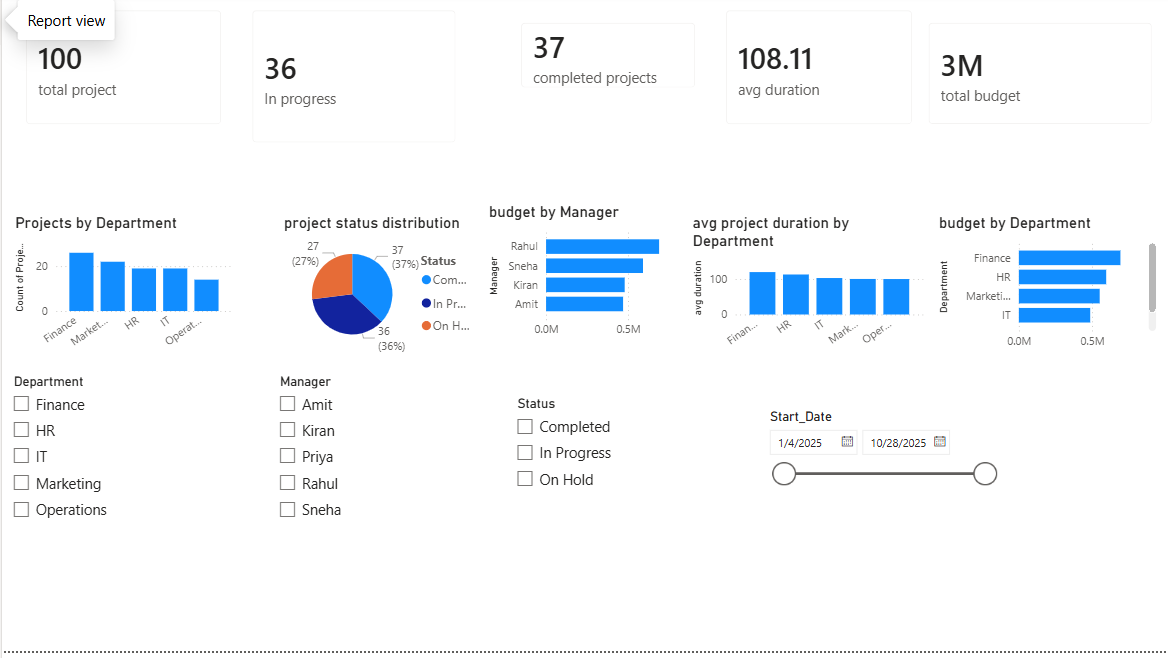

The page's visual inventory and layout, read from the dashboard file:
{"tool":"powerbi","page":{"name":"Page 1","canvas":[1280,720],"ordinal":0},"visuals":[{"type":"cardVisual","fields":{"Data":["Project_Data.total project"]},"box":[9.6,0,248.4,159.2],"z":0},{"type":"cardVisual","fields":{"Data":["Project_Data.total budget"]},"box":[1000.3,13.7,279.9,145.5],"z":1},{"type":"cardVisual","fields":{"Data":["Project_Data.completed projects"]},"box":[553,13.7,225,105.7],"z":2},{"type":"cardVisual","fields":{"Data":["Project_Data.In progress"]},"box":[258,0,258,179.8],"z":3},{"type":"cardVisual","fields":{"Data":["Project_Data.avg duration"]},"box":[778,0,238.8,159.2],"z":4},{"type":"clusteredColumnChart","title":" Projects by Department","fields":{"Category":["Project_Data.Department"],"Y":["CountNonNull(Project_Data.Project_ID)"]},"box":[10,240.5,248,159],"z":5},{"type":"clusteredBarChart","title":" budget by Department","fields":{"Category":["Project_Data.Department"],"Y":["Project_Data.total budget"]},"box":[1023.7,240.1,248.4,157.8],"z":6},{"type":"pieChart","title":"project status distribution","fields":{"Category":["Project_Data.Status"],"Y":["CountNonNull(Project_Data.Project_ID)"]},"box":[304.6,240.1,225,157.8],"z":7},{"type":"clusteredBarChart","title":" budget by Manager","fields":{"Category":["Project_Data.Manager"],"Y":["Project_Data.total budget"]},"box":[529.7,227.8,238.8,157.8],"z":8},{"type":"clusteredColumnChart","title":"avg project duration by Department","fields":{"Category":["Project_Data.Department"],"Y":["Project_Data.avg duration"]},"box":[753.3,240.1,263.5,157.8],"z":9},{"type":"slicer","fields":{"Values":["Project_Data.Department"]},"box":[0,410.3,258,183.9],"z":10},{"type":"slicer","fields":{"Values":["Project_Data.Manager"]},"box":[292.3,410.3,248.4,183.9],"z":11},{"type":"slicer","fields":{"Values":["Project_Data.Status"]},"box":[553,435,225,159.2],"z":12},{"type":"slicer","fields":{"Values":["Project_Data.Start_Date"]},"box":[830.2,448.7,270.3,155.1],"z":13}]}

Visuals, with their boxes on the page's 1280x720 design canvas (x1, y1, x2, y2). These are canvas units, not pixel positions in the 1168x658 screenshot, which may show the page scaled, cropped or inside an application window:
cardVisual - Project_Data.total project: 10, 0, 258, 159
cardVisual - Project_Data.total budget: 1000, 14, 1280, 159
cardVisual - Project_Data.completed projects: 553, 14, 778, 119
cardVisual - Project_Data.In progress: 258, 0, 516, 180
cardVisual - Project_Data.avg duration: 778, 0, 1017, 159
" Projects by Department" clusteredColumnChart: 10, 240, 258, 400
" budget by Department" clusteredBarChart: 1024, 240, 1272, 398
"project status distribution" pieChart: 305, 240, 530, 398
" budget by Manager" clusteredBarChart: 530, 228, 768, 386
"avg project duration by Department" clusteredColumnChart: 753, 240, 1017, 398
slicer - Project_Data.Department: 0, 410, 258, 594
slicer - Project_Data.Manager: 292, 410, 541, 594
slicer - Project_Data.Status: 553, 435, 778, 594
slicer - Project_Data.Start_Date: 830, 449, 1100, 604
